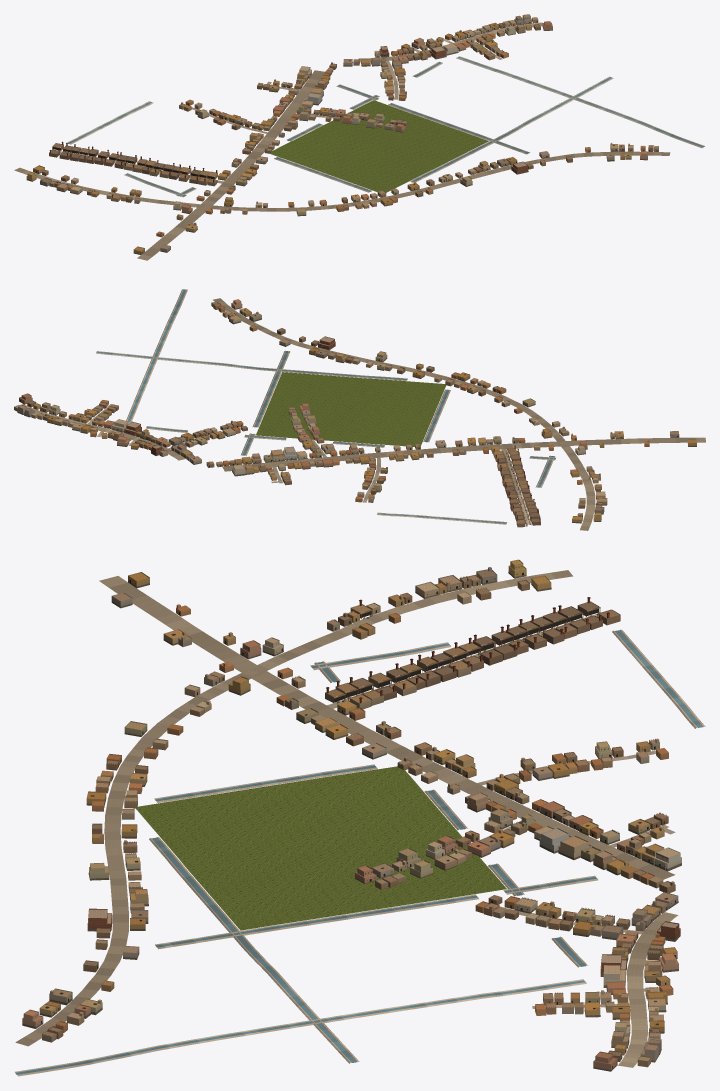
Rendered from uruk_quarter_08.glb.
The picture shows the model from 3 angles, top to bottom: view 1: azimuth 30°, elevation 25°; view 2: azimuth 150°, elevation 25°; view 3: azimuth 270°, elevation 25°; orthographic projection. The views are drawn at different scales.
Visible parts, largest first — view 1: uruk_quarter_08; view 2: uruk_quarter_08; view 3: uruk_quarter_08.
Boxes of the visible parts, <box> form: uruk_quarter_08: <box>14,14,704,260</box>; uruk_quarter_08: <box>14,289,705,530</box>; uruk_quarter_08: <box>15,559,705,1076</box>.
Size of the model in its own units: 734 by 14.37 by 425.
Materials: 17 (6 with a texture image).
